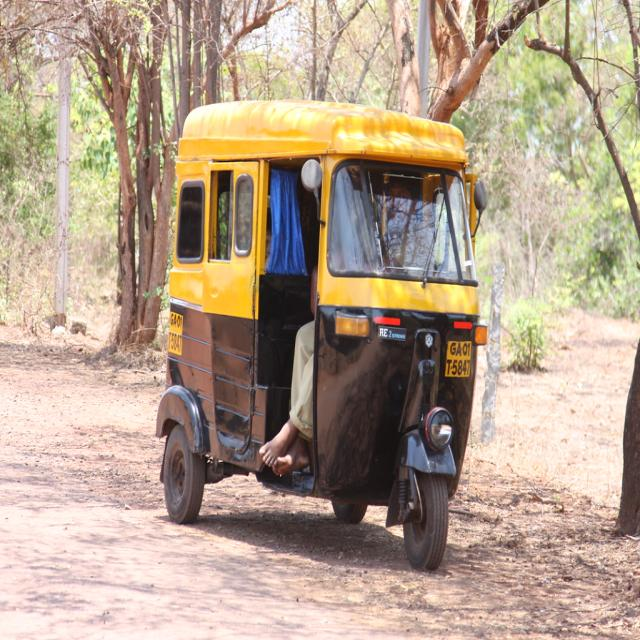Plate: (446, 340, 472, 377)
rickshaw: (153, 103, 492, 571)
